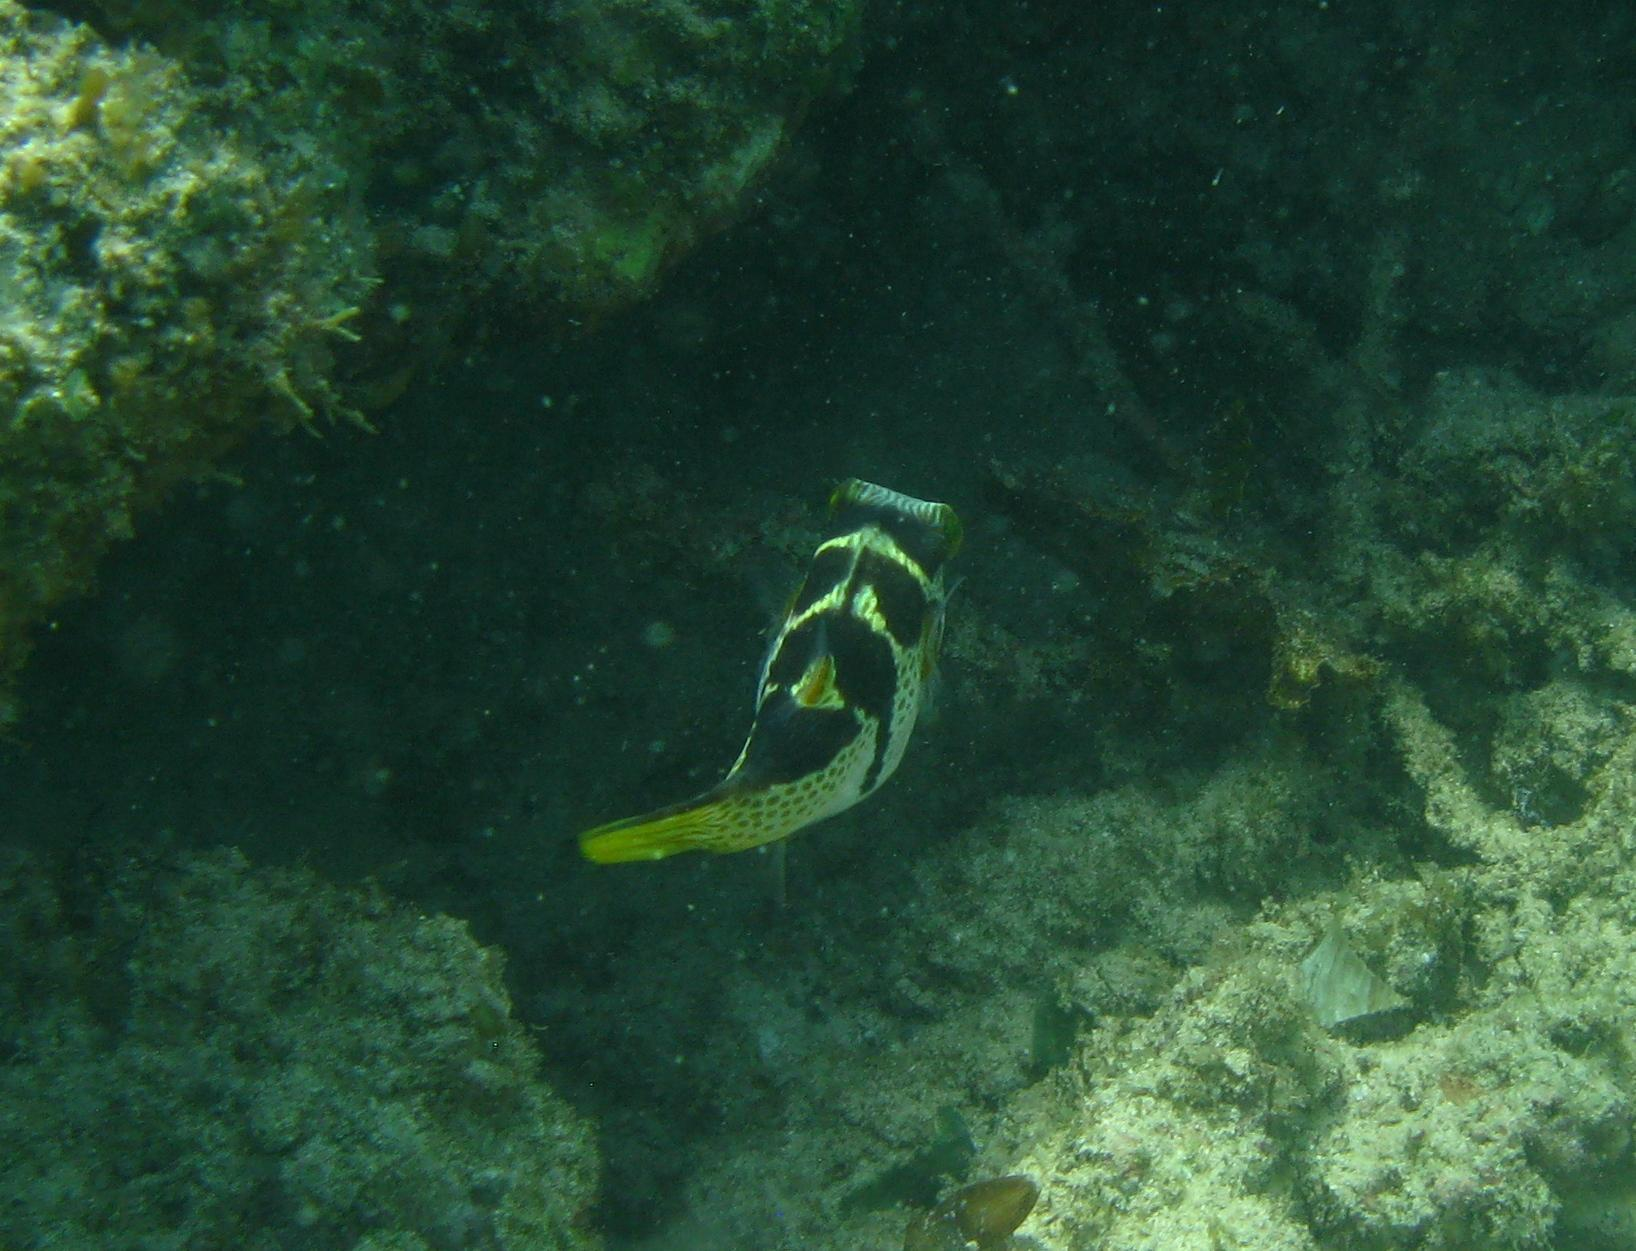Fish: (548, 459, 996, 898)
